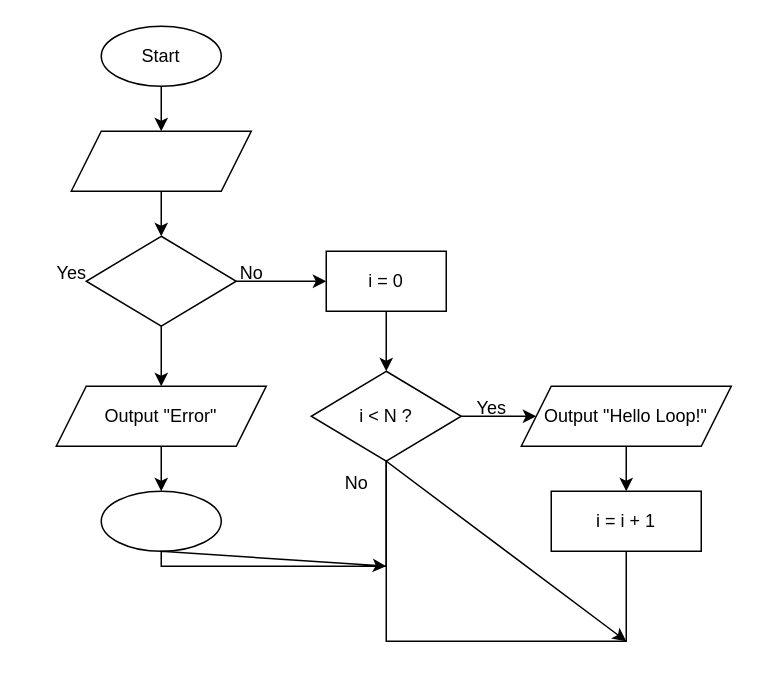
The diagram is 758 pixels wide and 680 high, and some of its shapes have lost their labels. The shapes that lost their labels are listed below. From the top down, each one's box as (x1, y1, x2, y2) in pixels, then its label:
(70, 130, 251, 191): Input N
(85, 235, 236, 326): N <= 0 ?
(100, 490, 221, 551): End
